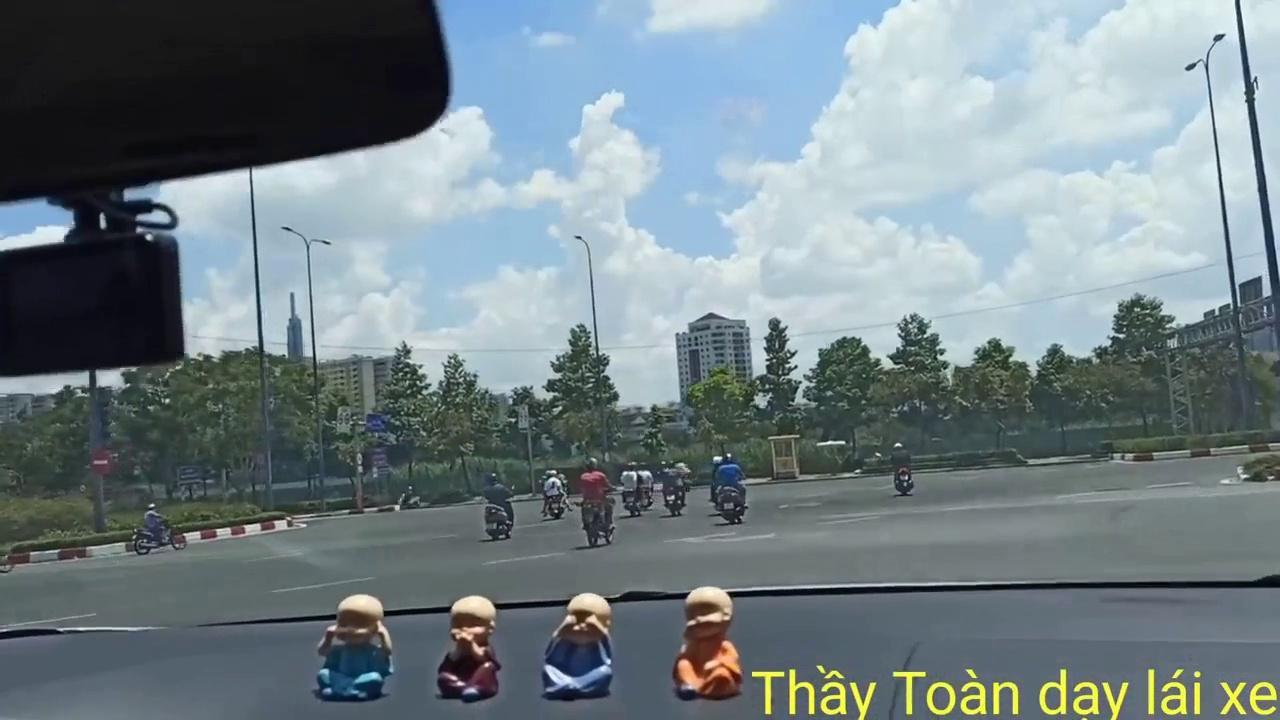Cấm cac phương tiện hoạt động trong khung giờ cố định: (337, 406, 351, 434)
Cấm đi ngược chiều: (88, 446, 116, 476)
